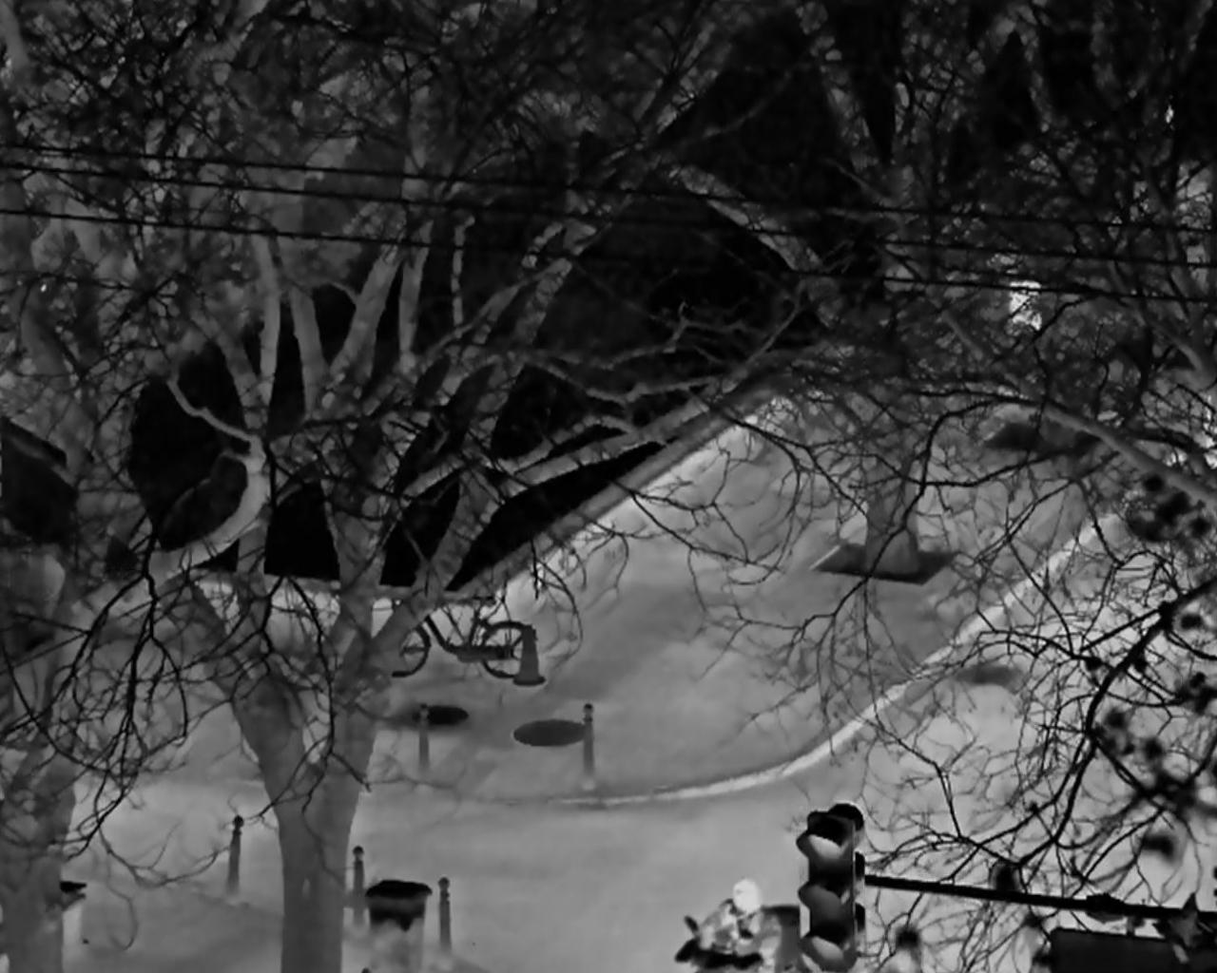person: (697, 876, 782, 973)
